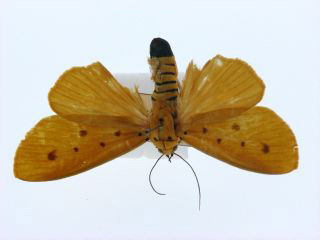Agape chloropyga: (11, 32, 302, 213)
moth: (10, 30, 301, 211)
